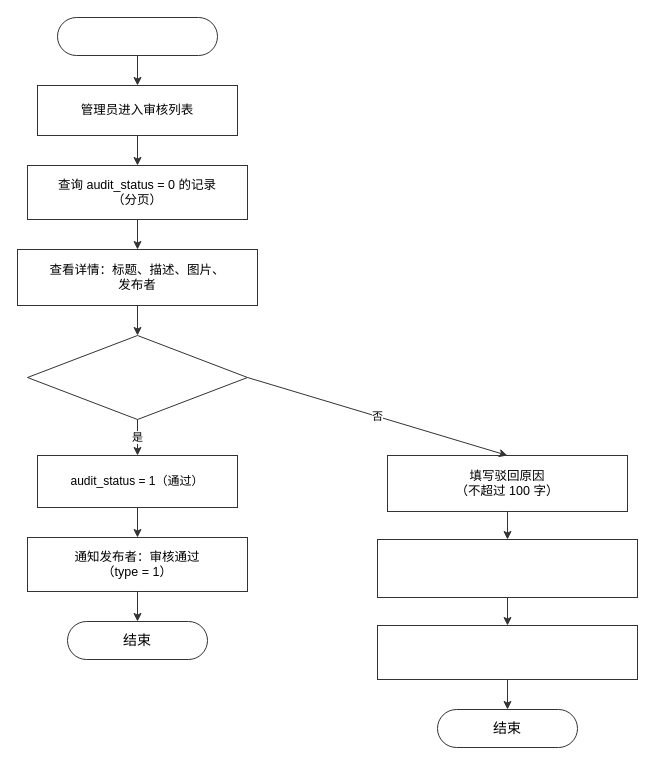
Image size: 655x765. Some labels were removed from this diagram. Here are the shapes that lost their labels. From the top down, the box of each, then its label:
(56, 16, 218, 56): 开始
(26, 334, 248, 420): 内容合规？
(376, 538, 638, 598): 写入 audit_status = 2 与 reject_reason
(376, 624, 638, 680): 通知发布者：审核驳回并附 原因（type = 1）
